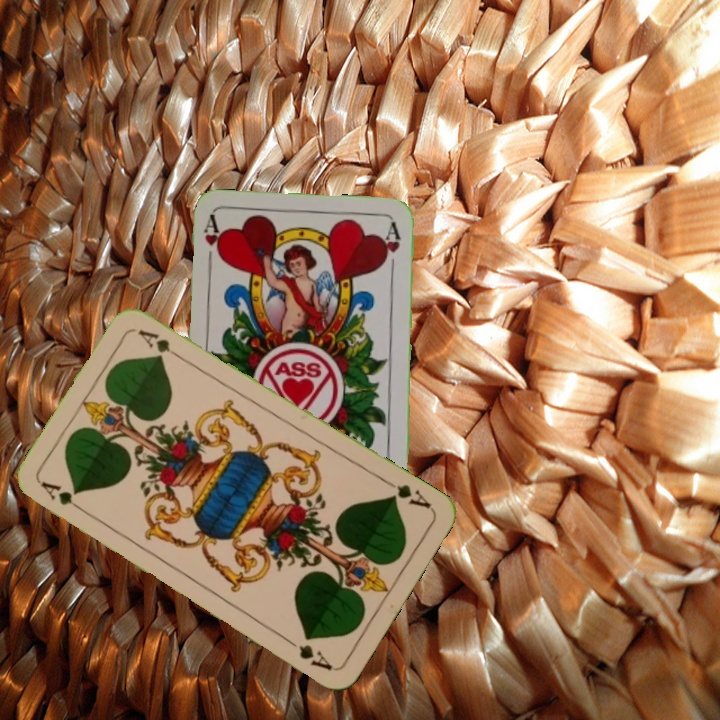GA: (37, 477, 90, 517), (380, 475, 434, 511)
HA: (200, 213, 226, 273)
